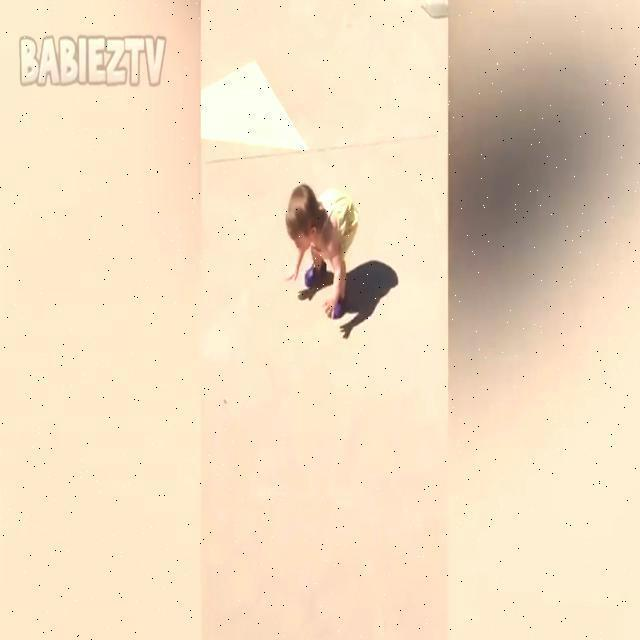child: (286, 181, 356, 318)
